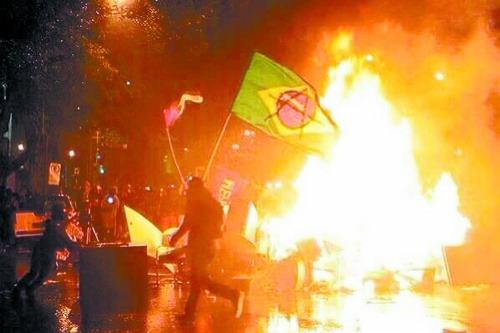fire: (239, 54, 473, 333), (123, 204, 181, 255)
